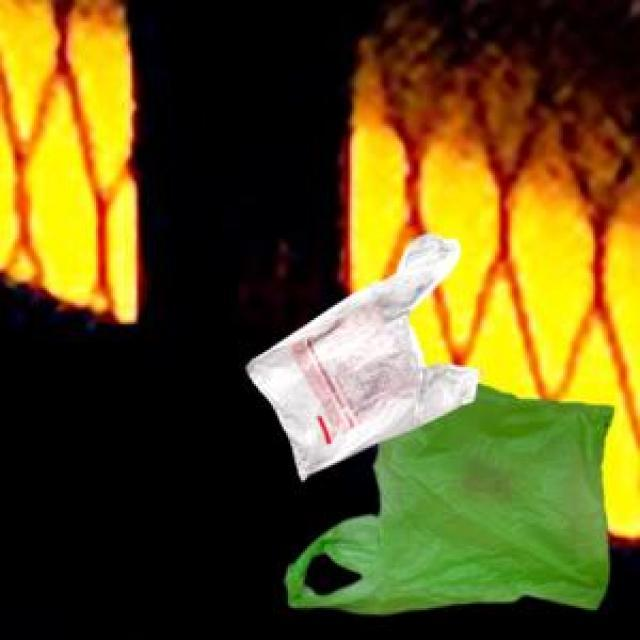Plastic_Bag: (283, 380, 612, 612), (246, 231, 479, 477)
